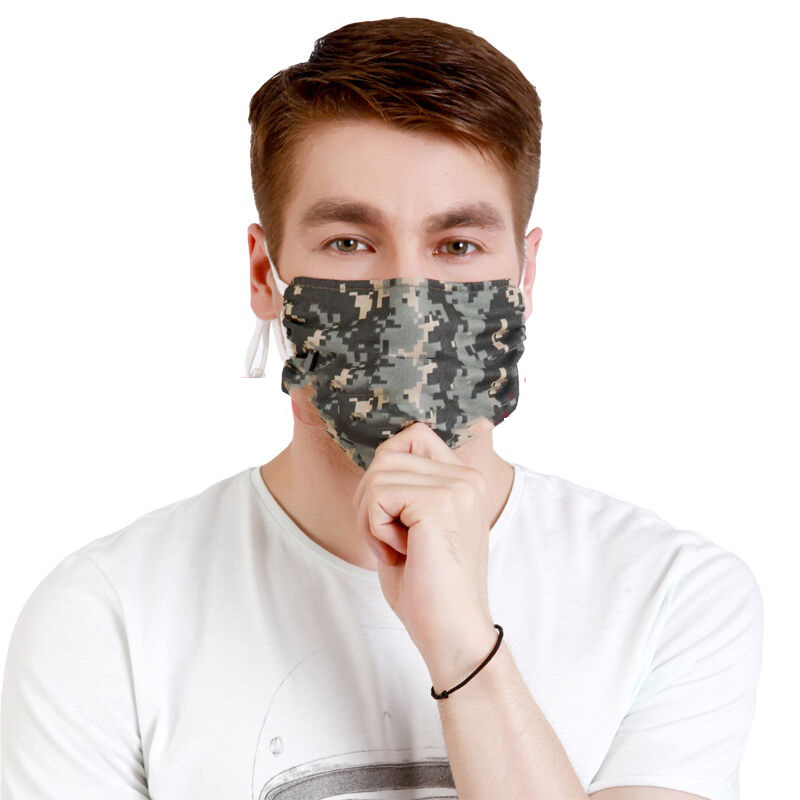face_mask: (284, 119, 516, 455)
